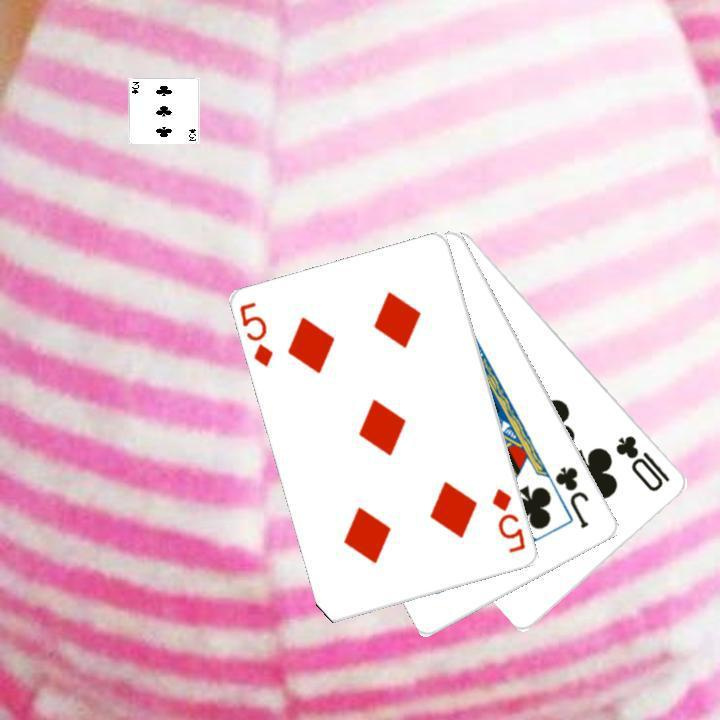10: (611, 430, 673, 494)
5: (235, 298, 276, 370), (488, 484, 528, 555)
J: (551, 462, 592, 531)
